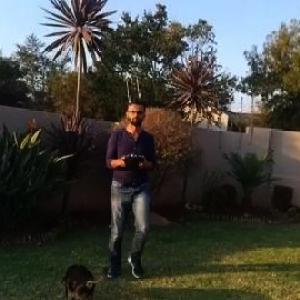follow: (100, 94, 159, 286)
null: (54, 263, 109, 299)
